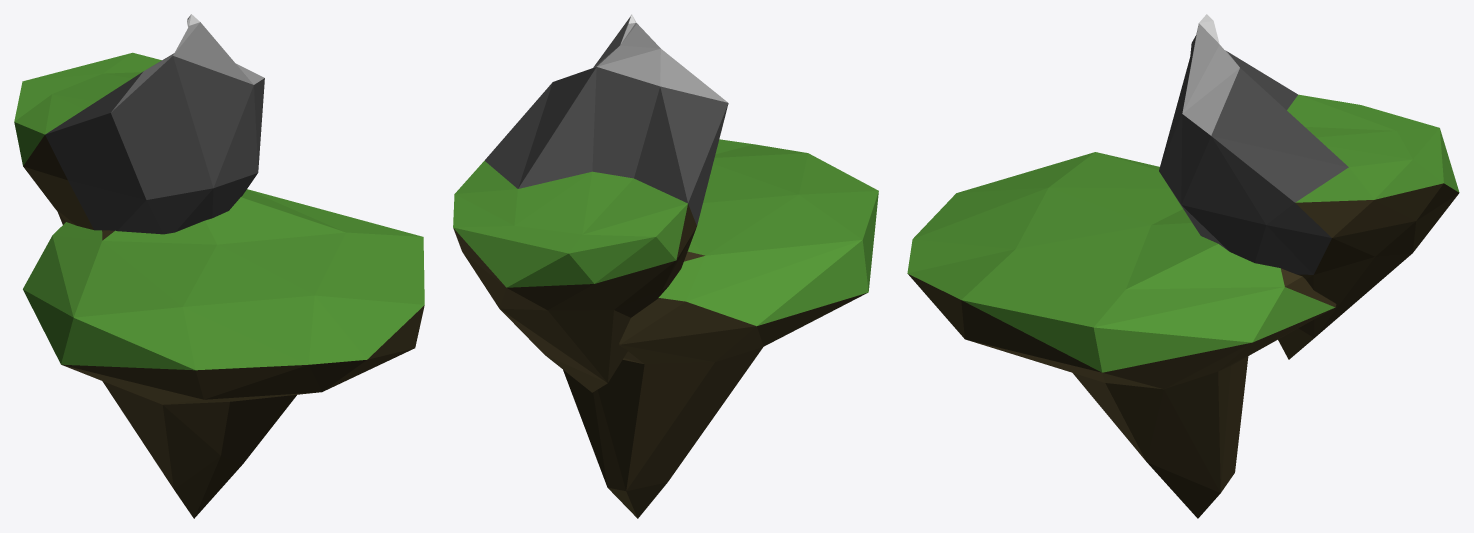
File: ostrovok2.fbx
The picture shows the model from 3 angles, left to right: view 1: azimuth 30°, elevation 25°; view 2: azimuth 150°, elevation 25°; view 3: azimuth 270°, elevation 25°; orthographic projection.
Visible parts, largest first — view 1: Icosphere; view 2: Icosphere; view 3: Icosphere.
Part boxes in pixels (<box>): Icosphere: <box>14,14,424,518</box>; Icosphere: <box>453,14,878,518</box>; Icosphere: <box>907,14,1459,518</box>.
Size of the model in its own units: 402 by 533 by 528.
